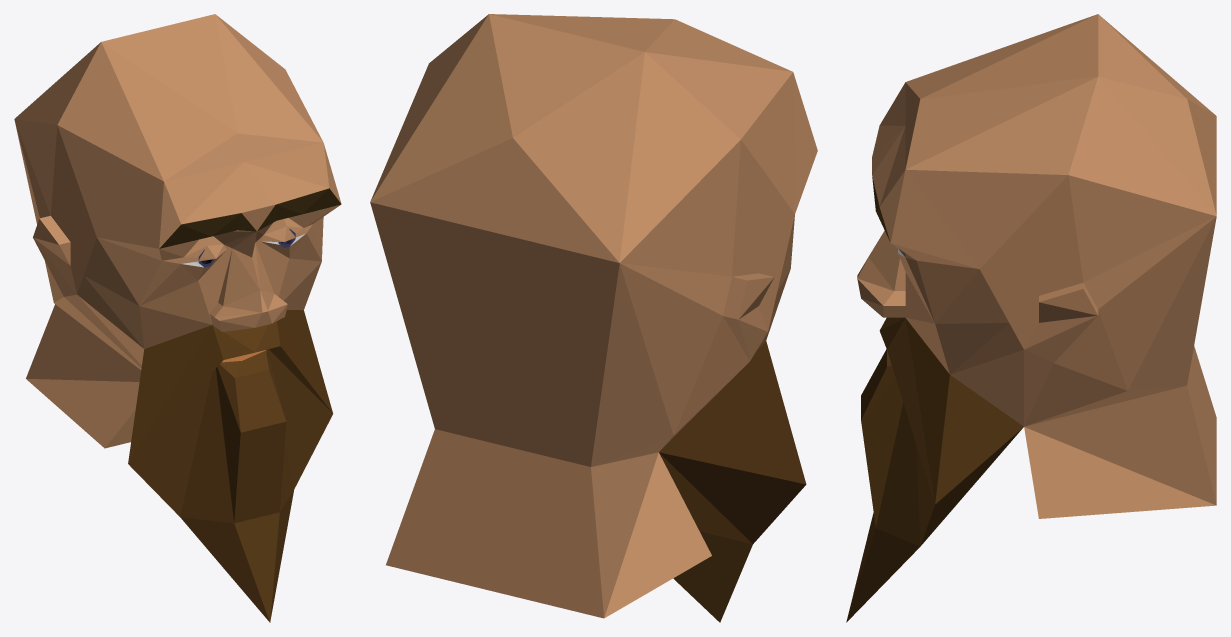
File: model_4_npc_head.obj
3 renders of one model, left to right at view 1: azimuth 30°, elevation 25°; view 2: azimuth 150°, elevation 25°; view 3: azimuth 270°, elevation 25°, orthographic. The views are drawn at different scales.
Visible parts, largest first — view 1: 4; view 2: 4; view 3: 4.
Boxes of the visible parts, x1,y1,x2,y2 form: 4: (14,14,341,622); 4: (370,14,817,622); 4: (846,14,1216,622).
Bounding box in the file's own units: 88 × 172 × 100.
